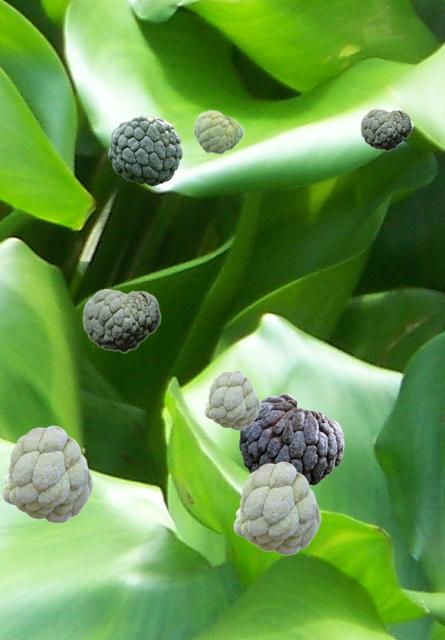atis: (239, 393, 343, 486), (1, 425, 92, 522), (233, 461, 320, 554), (108, 115, 181, 185), (82, 288, 160, 352), (204, 370, 259, 429), (192, 109, 243, 154), (360, 108, 411, 150)
